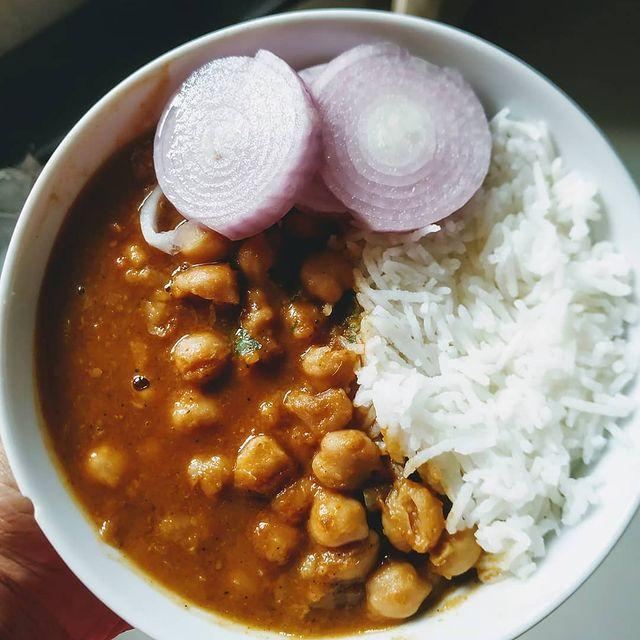Chole: (164, 268, 418, 608)
